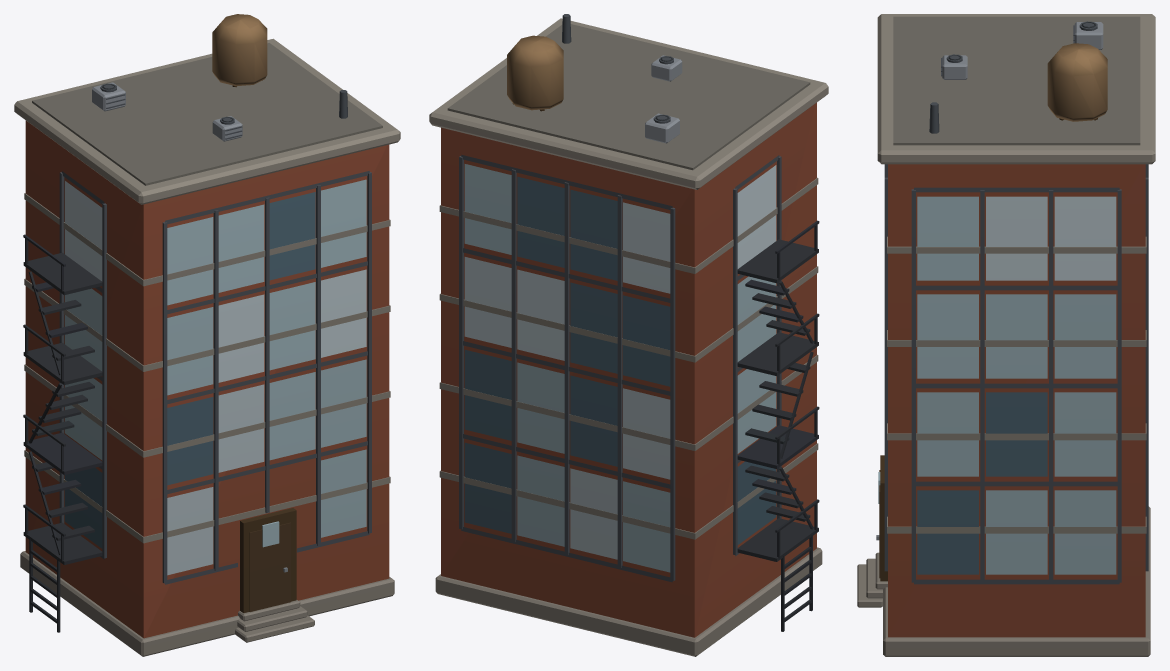
The model's file is apartment-block-01.glb.
3 views of the same model, side by side, from view 1: azimuth 30°, elevation 25°; view 2: azimuth 150°, elevation 25°; view 3: azimuth 270°, elevation 25° (orthographic). The views are drawn at different scales.
Visible parts, largest first — view 1: apartment_block_01; view 2: apartment_block_01; view 3: apartment_block_01.
Boxes of the visible parts, x1,y1,x2,y2 form: apartment_block_01: (14, 14, 400, 656); apartment_block_01: (429, 14, 828, 656); apartment_block_01: (857, 14, 1155, 656).
Size of the model in its own units: 7.21 by 12.3 by 5.8.
